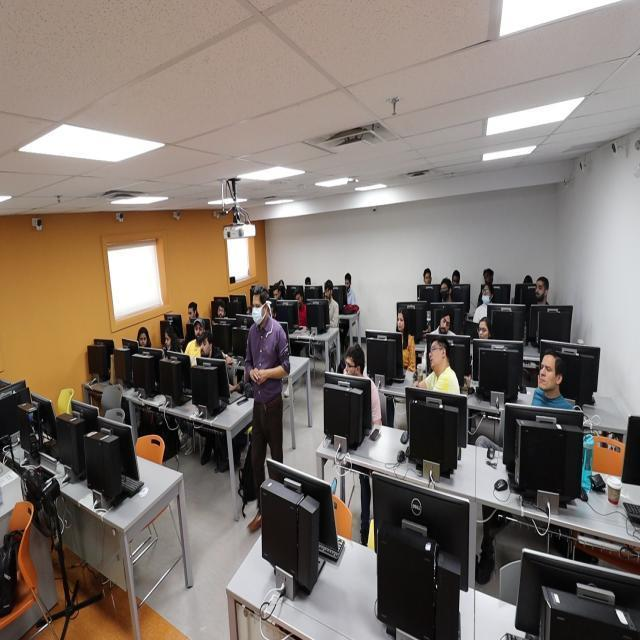Looking away: (440, 316, 450, 335), (478, 321, 488, 340), (194, 323, 204, 341), (138, 333, 148, 347), (164, 332, 172, 349), (188, 308, 196, 322), (484, 272, 492, 284), (424, 272, 432, 284), (325, 288, 332, 301), (452, 275, 460, 285), (344, 278, 350, 291), (296, 294, 302, 307), (273, 290, 280, 300)
Looking forward: (538, 356, 556, 390), (428, 340, 444, 370), (200, 338, 212, 358), (535, 280, 546, 301), (345, 357, 356, 378), (482, 284, 492, 303), (440, 282, 450, 300), (397, 313, 405, 331), (218, 306, 225, 320)
